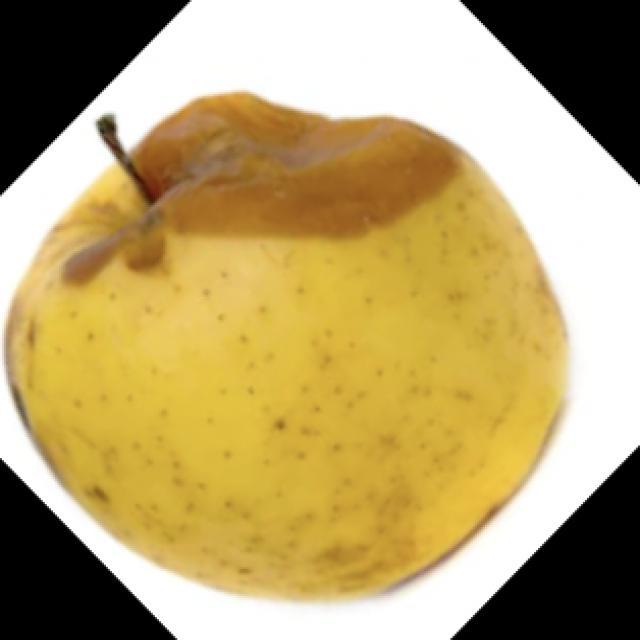Rotten: (62, 103, 583, 592)
